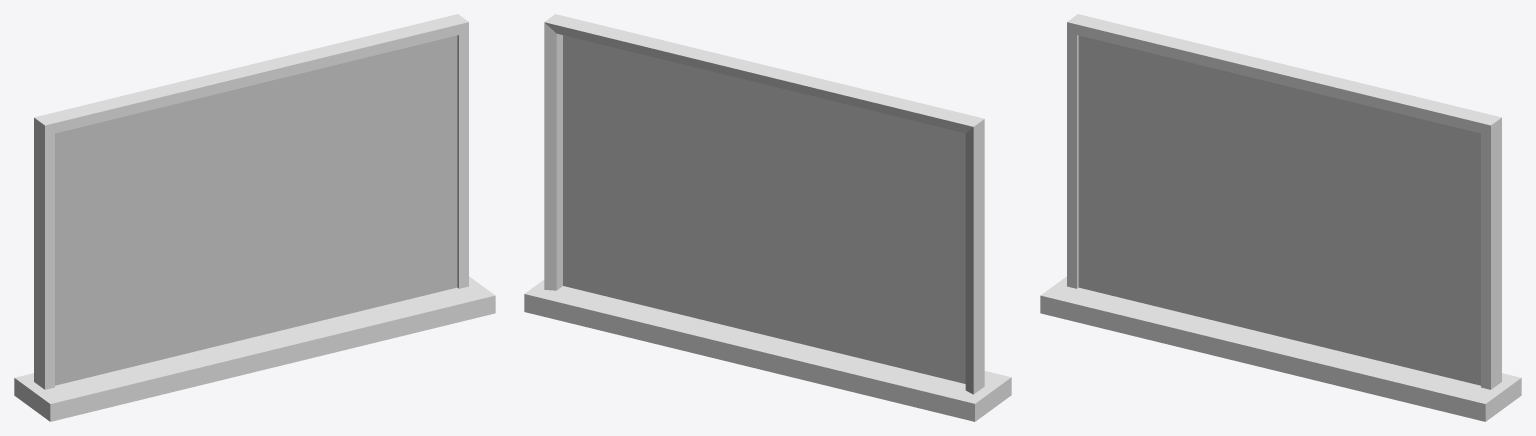
Rendered from window_008.fbx.
3 views of the same model, side by side, from view 1: azimuth 30°, elevation 25°; view 2: azimuth 150°, elevation 25°; view 3: azimuth 330°, elevation 25° (orthographic).
Parts seen in each view (by area): view 1: window_008; view 2: window_008; view 3: window_008.
Boxes of the visible parts, box(x1,y1,x2,y2) form: window_008: box(14, 14, 495, 421); window_008: box(524, 14, 1011, 421); window_008: box(1040, 14, 1521, 421).
Bounding box in the file's own units: 305 × 42.75 × 185.
